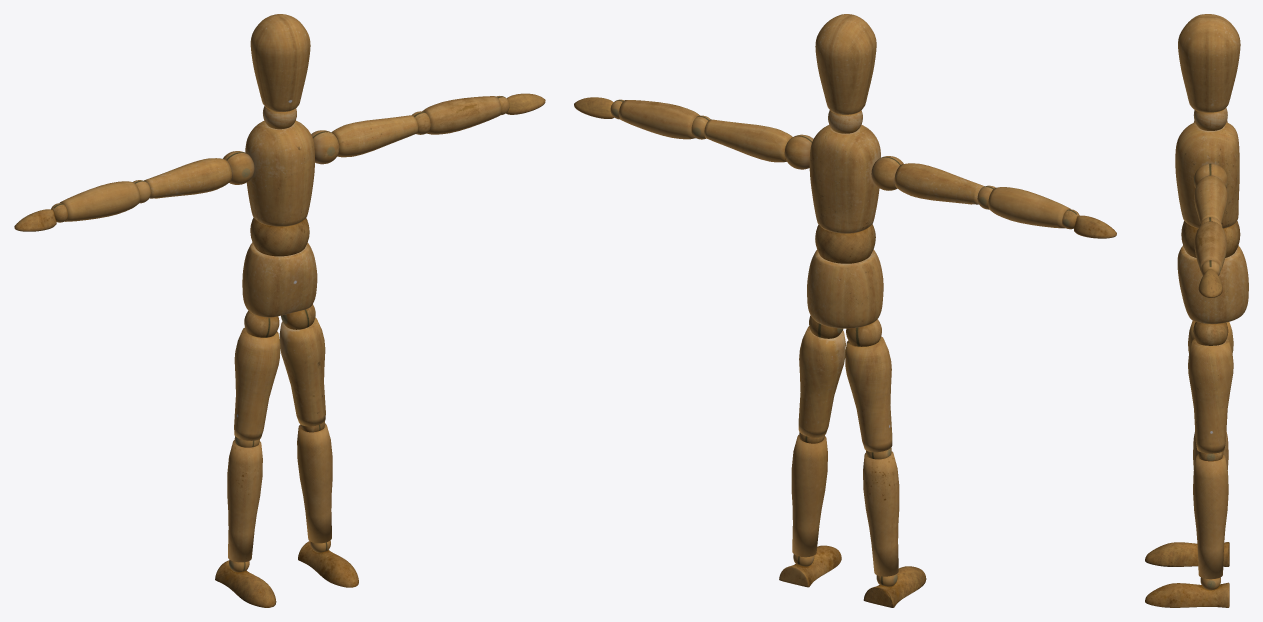
File: SM_Mannequin_01.fbx
The picture shows the model from 3 angles, left to right: view 1: azimuth 30°, elevation 25°; view 2: azimuth 150°, elevation 25°; view 3: azimuth 270°, elevation 25°; orthographic projection. The views are drawn at different scales.
Parts seen in each view (by area): view 1: lay_figure; view 2: lay_figure; view 3: lay_figure.
Part boxes in pixels (<box>): lay_figure: <box>14,14,545,607</box>; lay_figure: <box>574,14,1116,607</box>; lay_figure: <box>1145,14,1248,607</box>.
Bounding box in the file's own units: 198 × 199 × 33.2.
